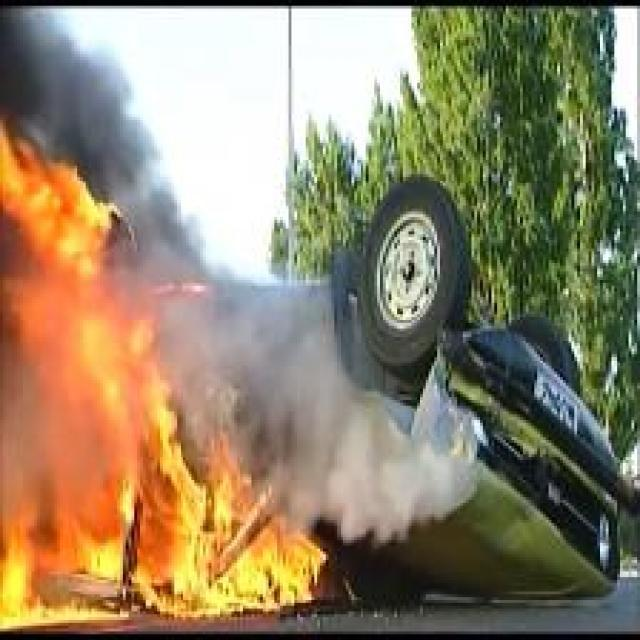Fire: (0, 121, 326, 630)
